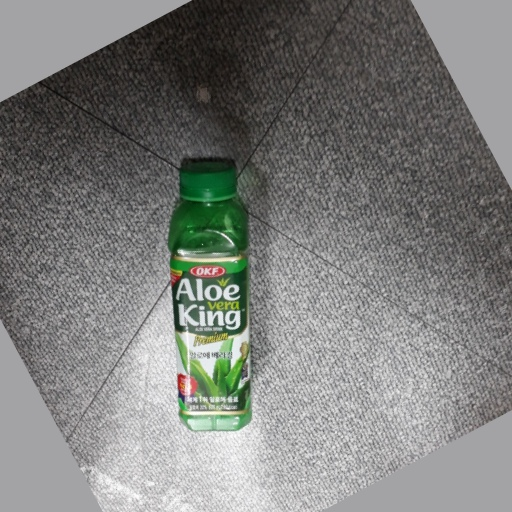Plastic_0: (169, 155, 258, 433)
